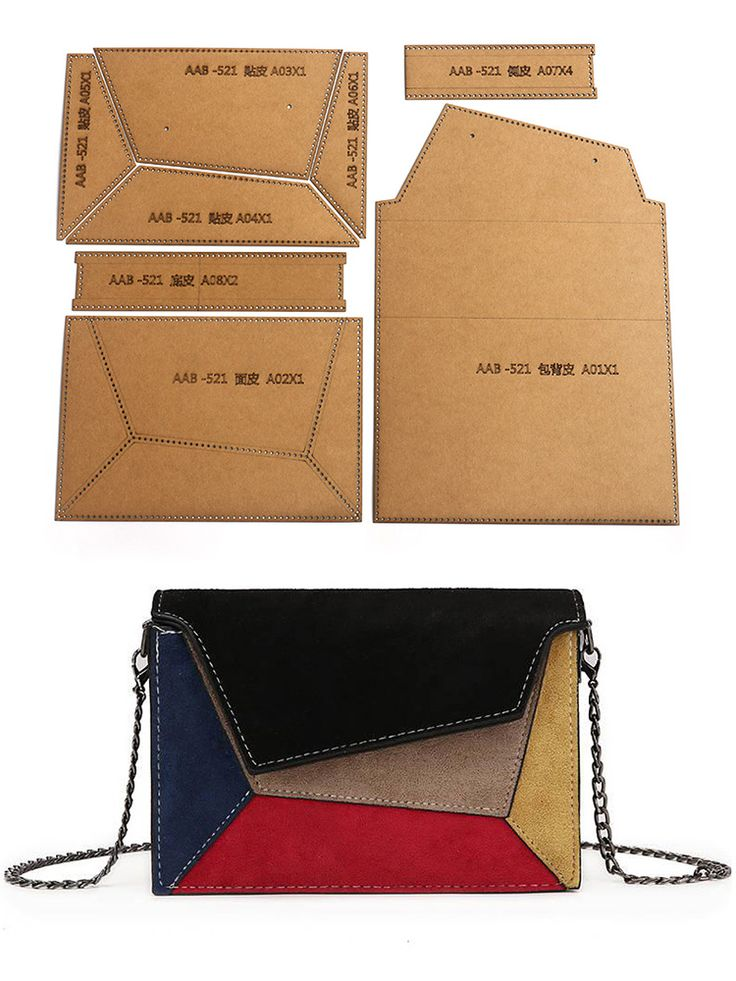cuero: (146, 587, 589, 898)
